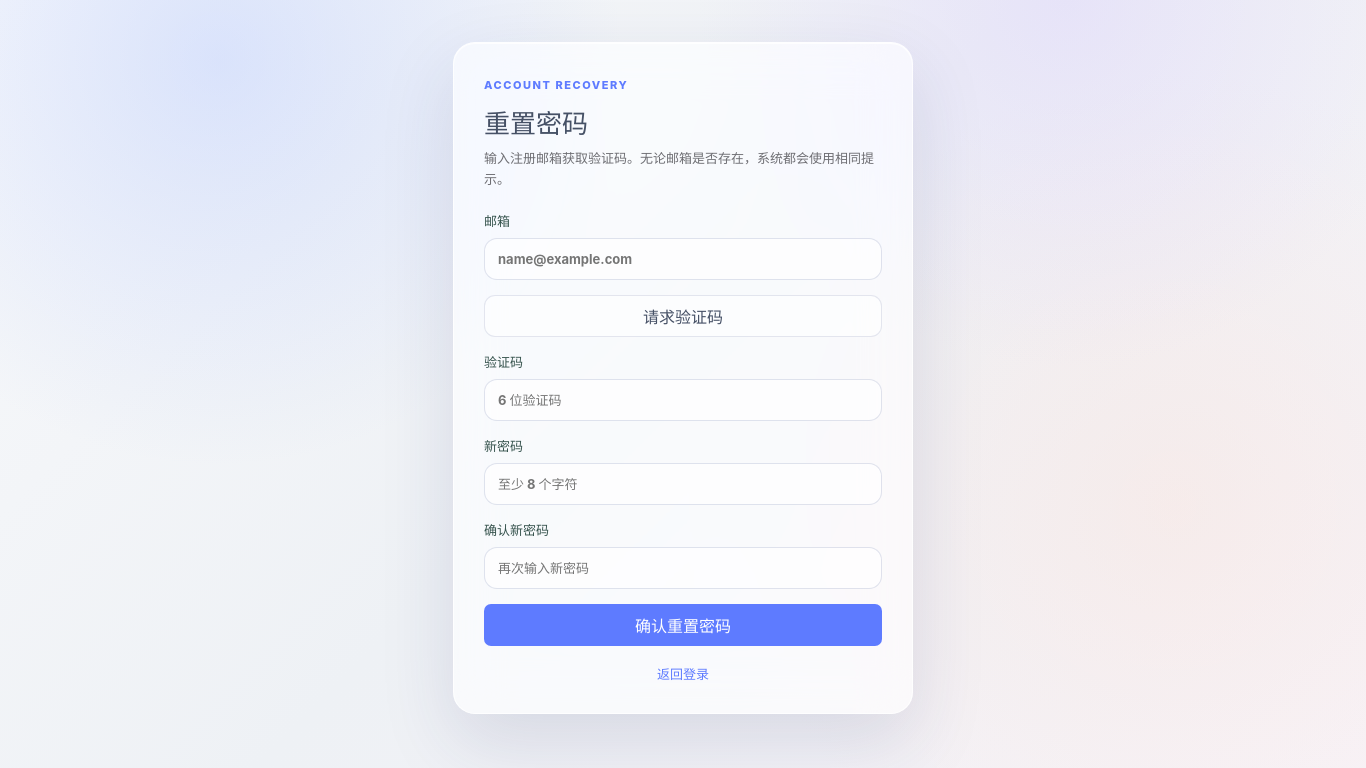
忘记密码页面 › 请求验证码始终展示后端统一提示
Step 1. Type "reset@example.com" into the field labelled "邮箱" → (683,259), box [484,238,882,280]
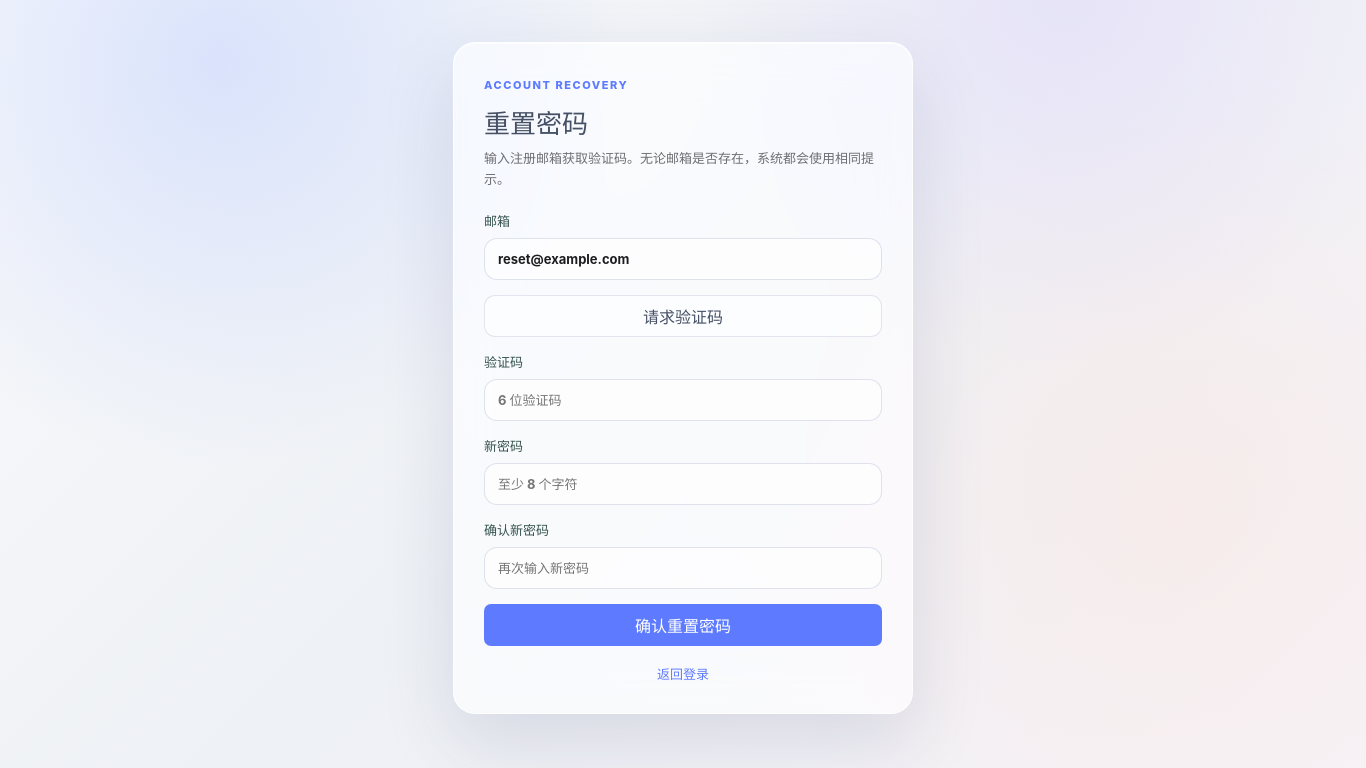
Step 2. Click the button with class "secondary-button" → (683,316), box [484,295,882,337]
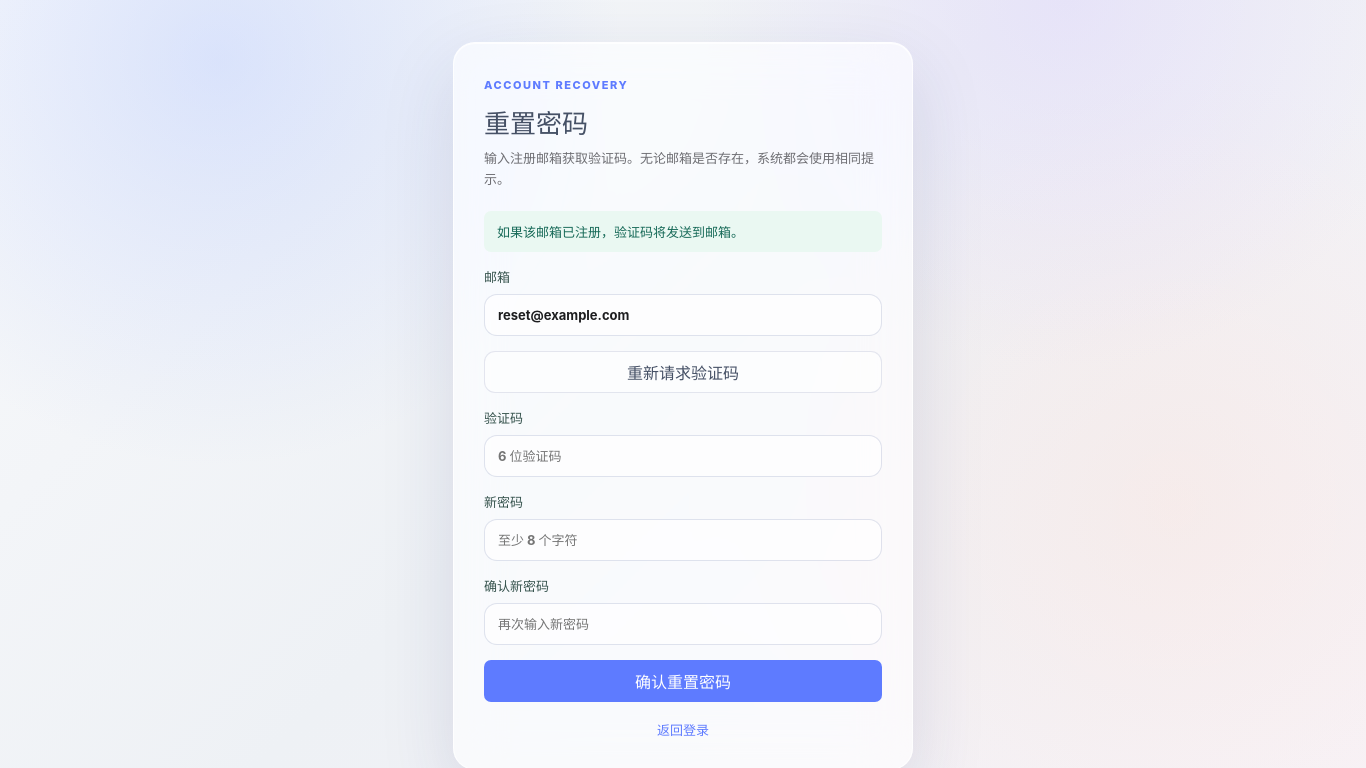
Expected: the message "如果该邮箱已注册，验证码将发送到邮箱。" is shown, [484,211,882,252]
